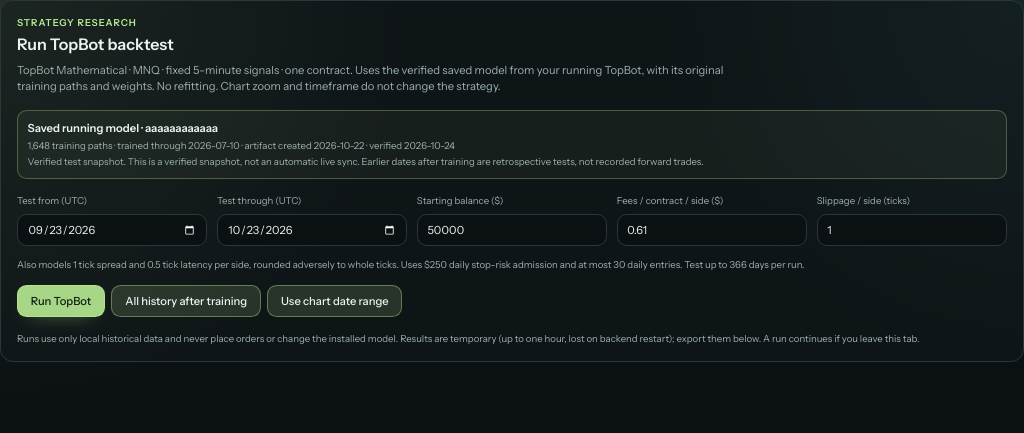
selects post-training history and rejects dates overlapping training
Check: the text "Saved running model" is shown, box [28, 121, 145, 135]
Click the button "All history after training" at (186, 300), box [111, 284, 261, 316]
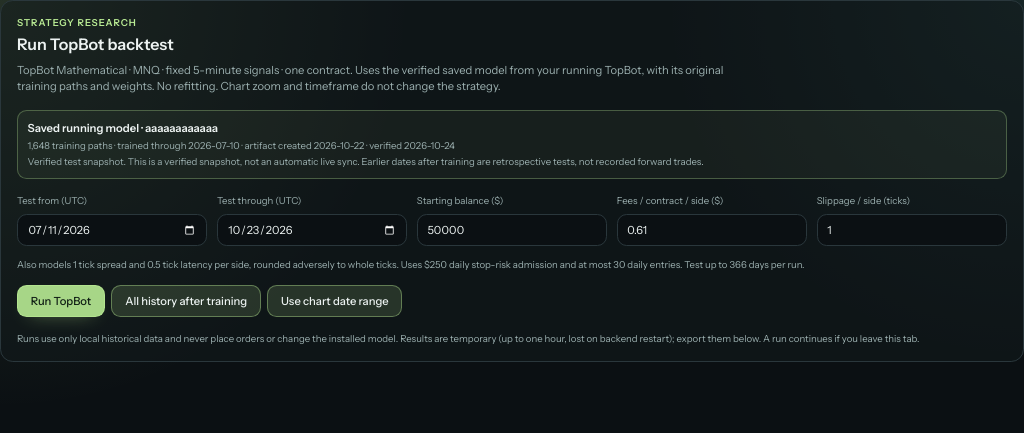
Check: the date field named "Backtest through" holds "2026-10-23", box [217, 214, 407, 246]
Check: the date field named "Backtest from" holds "2026-07-11"
Type "2026-07-10" into the date field named "Backtest from" at (112, 230), box [17, 214, 207, 246]
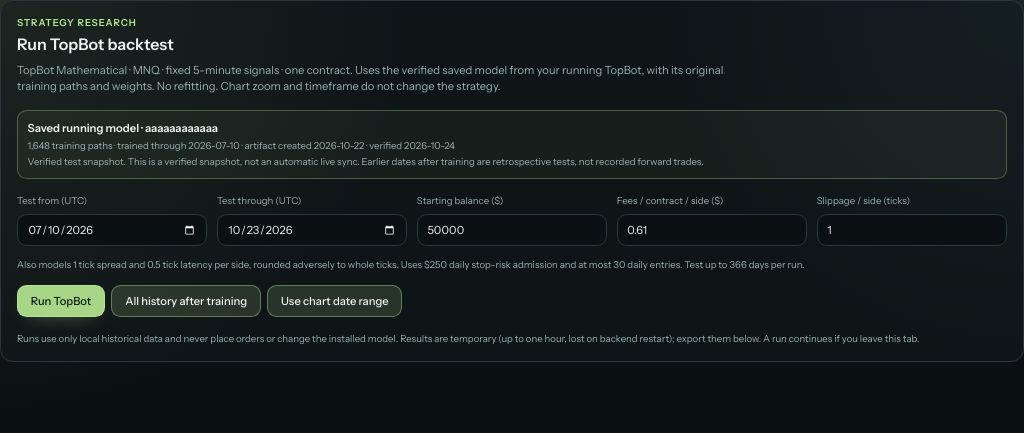
Click the button "Run TopBot" at (61, 300), box [17, 284, 105, 316]
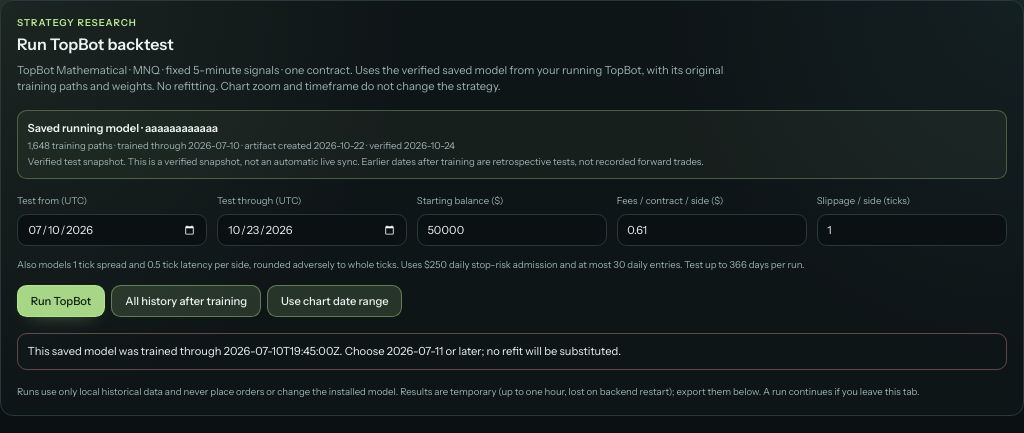
Check: the message shows "no refit will be substituted", box [28, 344, 621, 358]
